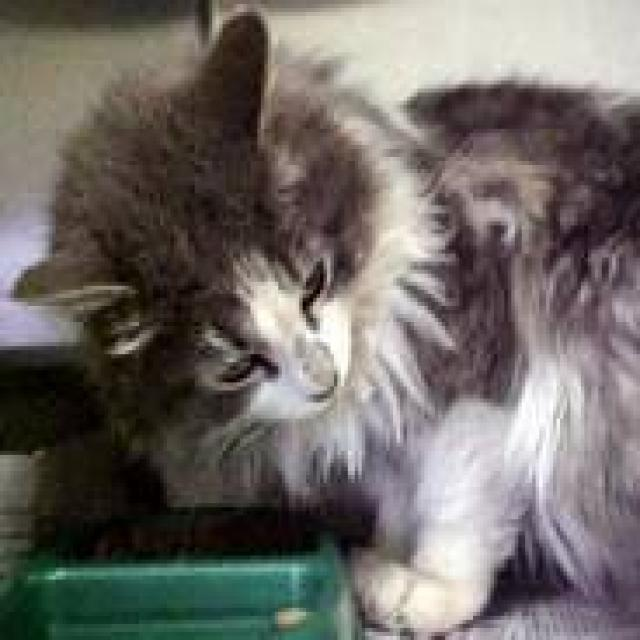cat: (14, 16, 640, 636)
